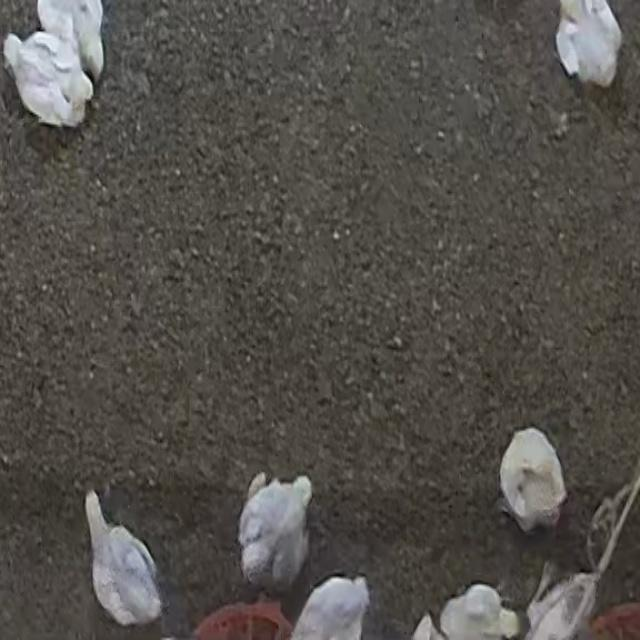chicken: (81, 486, 165, 626), (235, 469, 317, 589), (3, 28, 95, 131), (497, 424, 572, 533)
